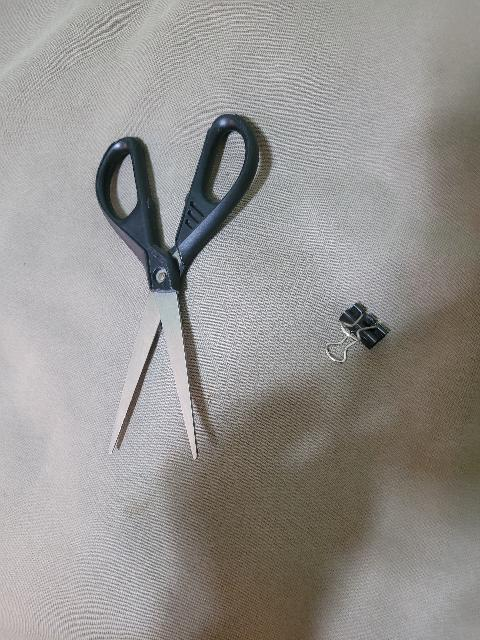Metal: (107, 293, 202, 460), (319, 303, 386, 365)
Plastik: (94, 114, 263, 289)
